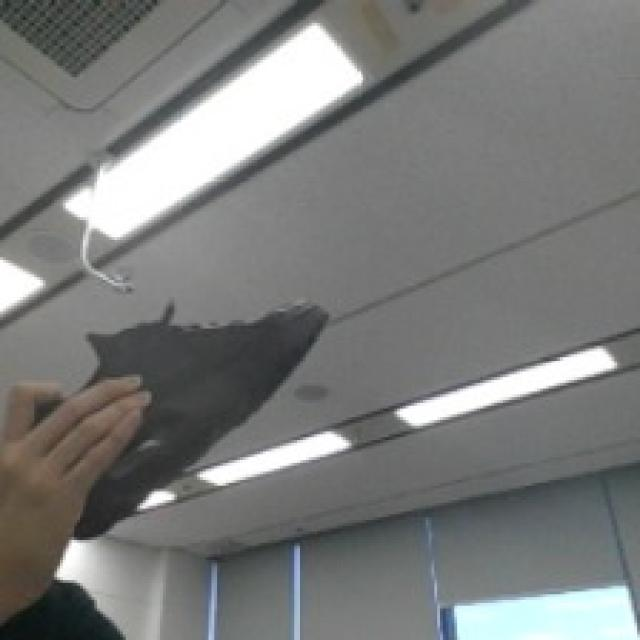shoe: (2, 258, 367, 516)
